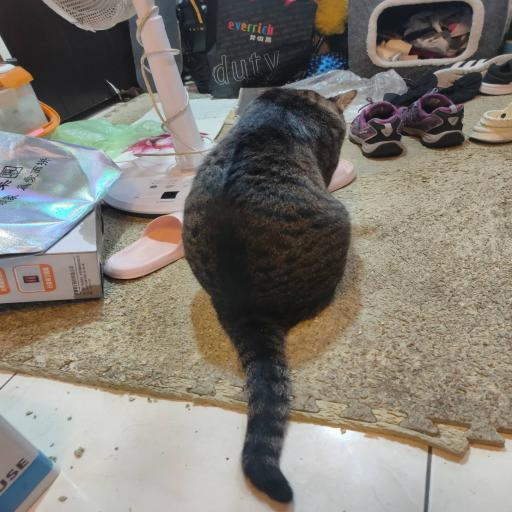cat: (187, 96, 344, 355)
